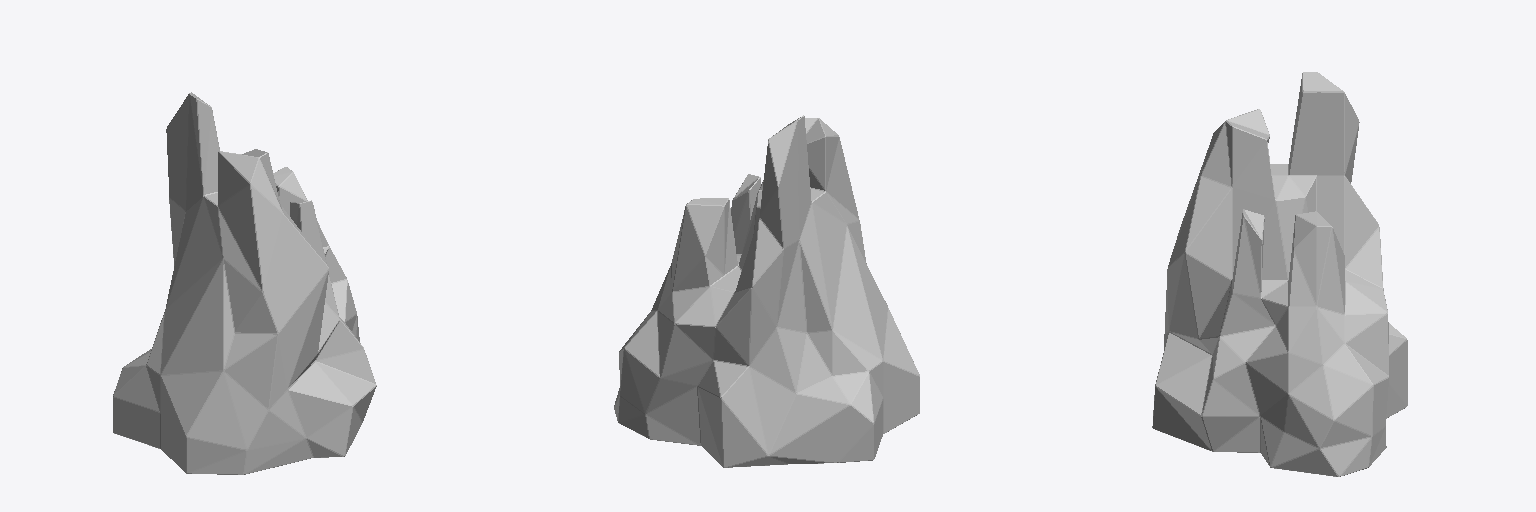
Rendered from whiteCrystal.obj.
3 renders of one model, left to right at view 1: azimuth 30°, elevation 25°; view 2: azimuth 150°, elevation 25°; view 3: azimuth 270°, elevation 25°, orthographic.
Parts seen in each view (by area): view 1: White_Crystal_M_White_0; view 2: White_Crystal_M_White_0; view 3: White_Crystal_M_White_0.
Boxes of the visible parts, box(x1,y1,x2,y2) form: White_Crystal_M_White_0: box(113, 92, 376, 474); White_Crystal_M_White_0: box(614, 115, 919, 467); White_Crystal_M_White_0: box(1152, 72, 1407, 476).
Size of the model in its own units: 20.07 by 24.72 by 17.79.